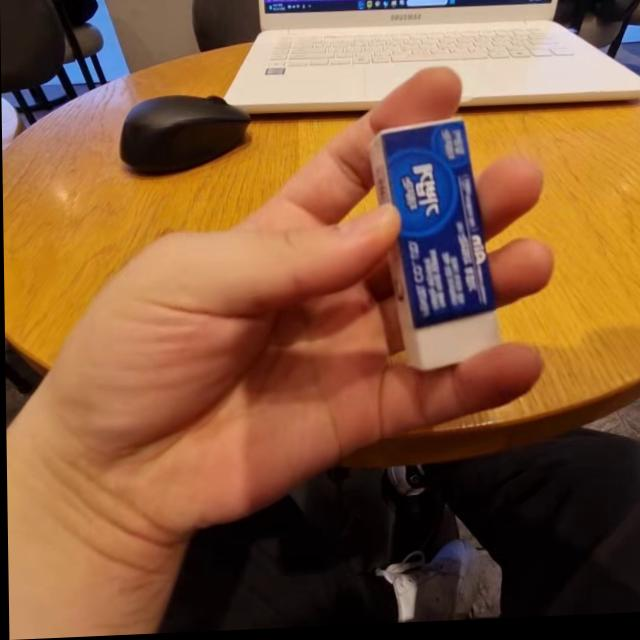grab_eraser: (30, 63, 555, 575)
mouse: (103, 84, 245, 198)
